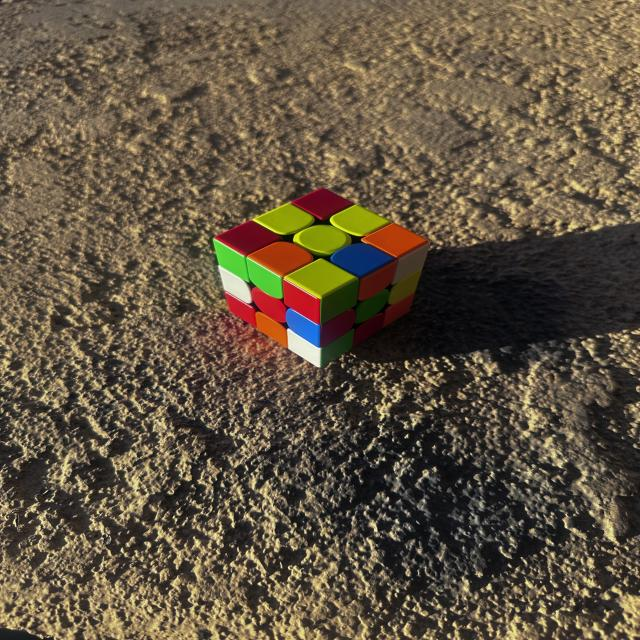sticker: (284, 257, 359, 303), (246, 242, 319, 277), (329, 242, 400, 276), (362, 222, 425, 254), (326, 206, 392, 236), (292, 188, 354, 217), (251, 204, 315, 231), (291, 225, 355, 251), (214, 226, 275, 249)
